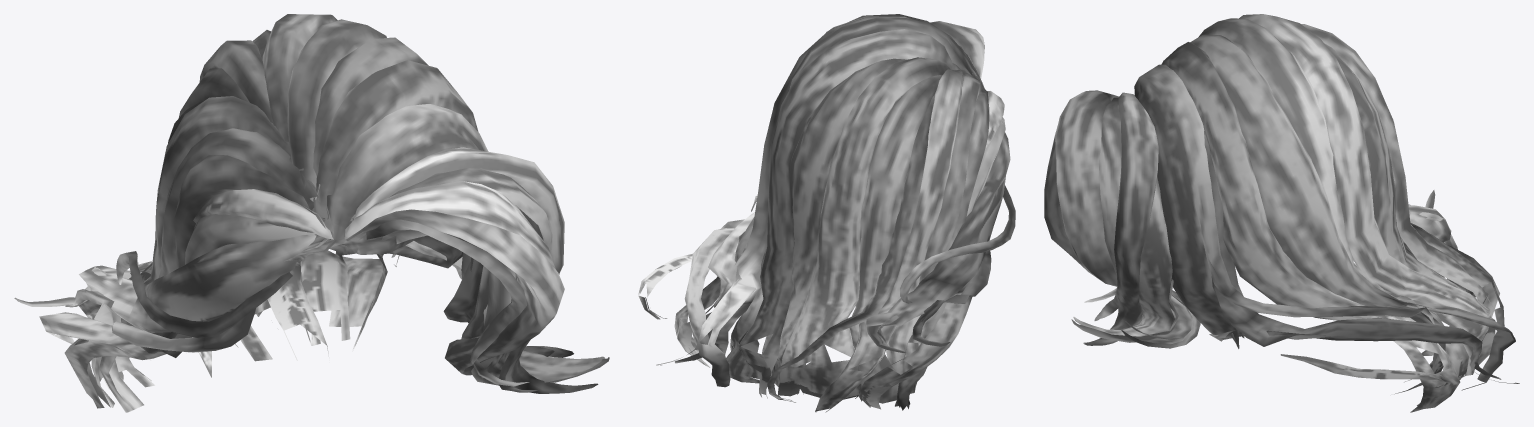
The model's file is daz_hair_glam_wave.glb.
The picture shows the model from 3 angles, left to right: view 1: azimuth 30°, elevation 25°; view 2: azimuth 150°, elevation 25°; view 3: azimuth 270°, elevation 25°; orthographic projection. The views are drawn at different scales.
Visible parts, largest first — view 1: daz_hair_glam_wave; view 2: daz_hair_glam_wave; view 3: daz_hair_glam_wave.
Part boxes in pixels (x1=…): daz_hair_glam_wave: x1=14, y1=14, x2=609, y2=412; daz_hair_glam_wave: x1=638, y1=14, x2=1015, y2=412; daz_hair_glam_wave: x1=1044, y1=14, x2=1519, y2=412.
Size of the model in its own units: 0.2756 by 0.2608 by 0.3317.
Materials: 1 (1 with a texture image).
